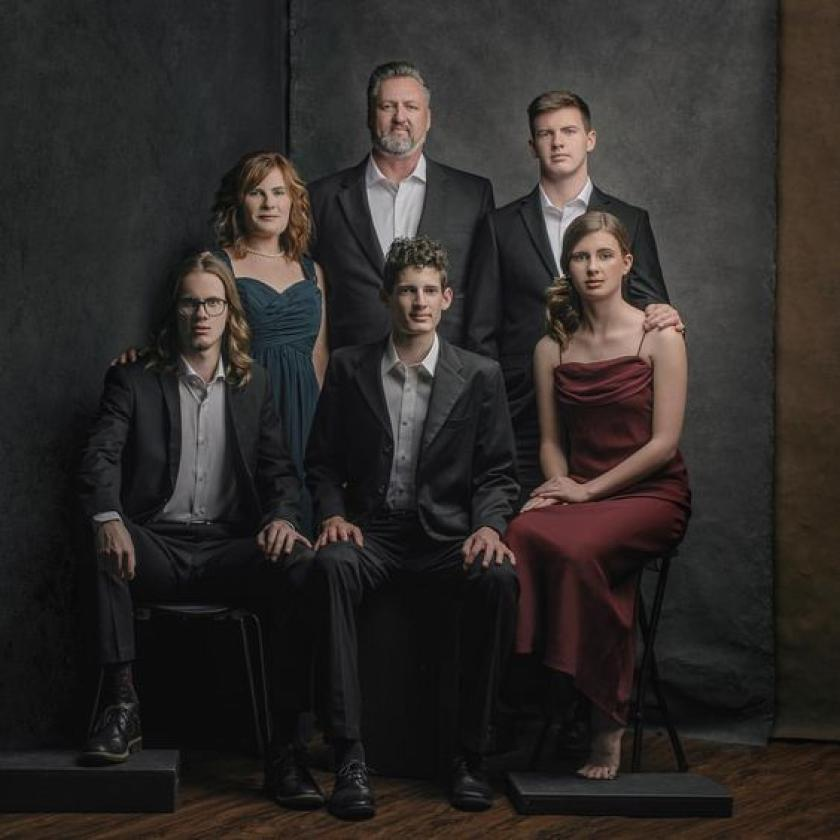Sin_casco: (168, 248, 242, 365), (557, 210, 639, 310), (381, 233, 458, 339), (233, 149, 309, 252), (524, 89, 600, 189), (363, 60, 438, 158)
